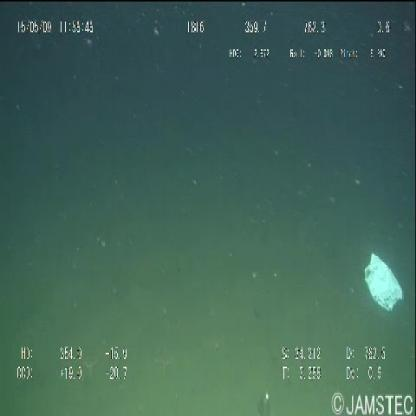Rác: (361, 245, 408, 319)
